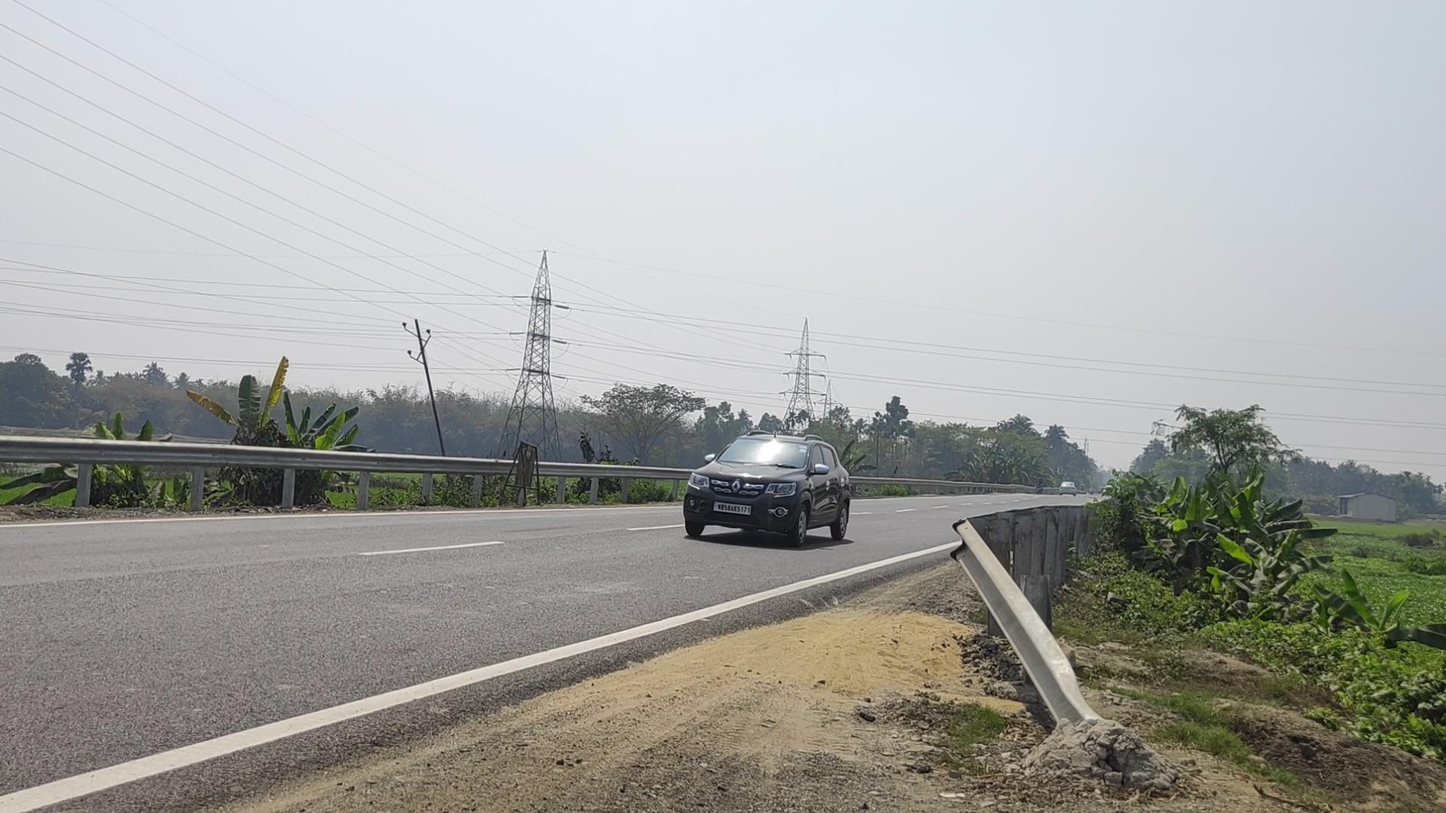car: (684, 429, 851, 548)
